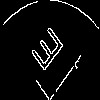E: (25, 25, 65, 80)
